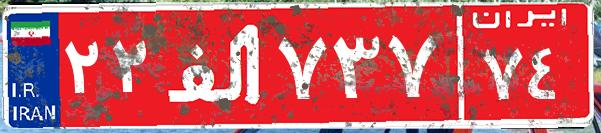2: (57, 26, 110, 107), (110, 28, 158, 105)
3: (330, 28, 385, 110)
4: (525, 38, 570, 115)
7: (385, 28, 445, 110), (273, 28, 330, 110), (475, 38, 525, 113)
الف: (158, 15, 273, 115)
